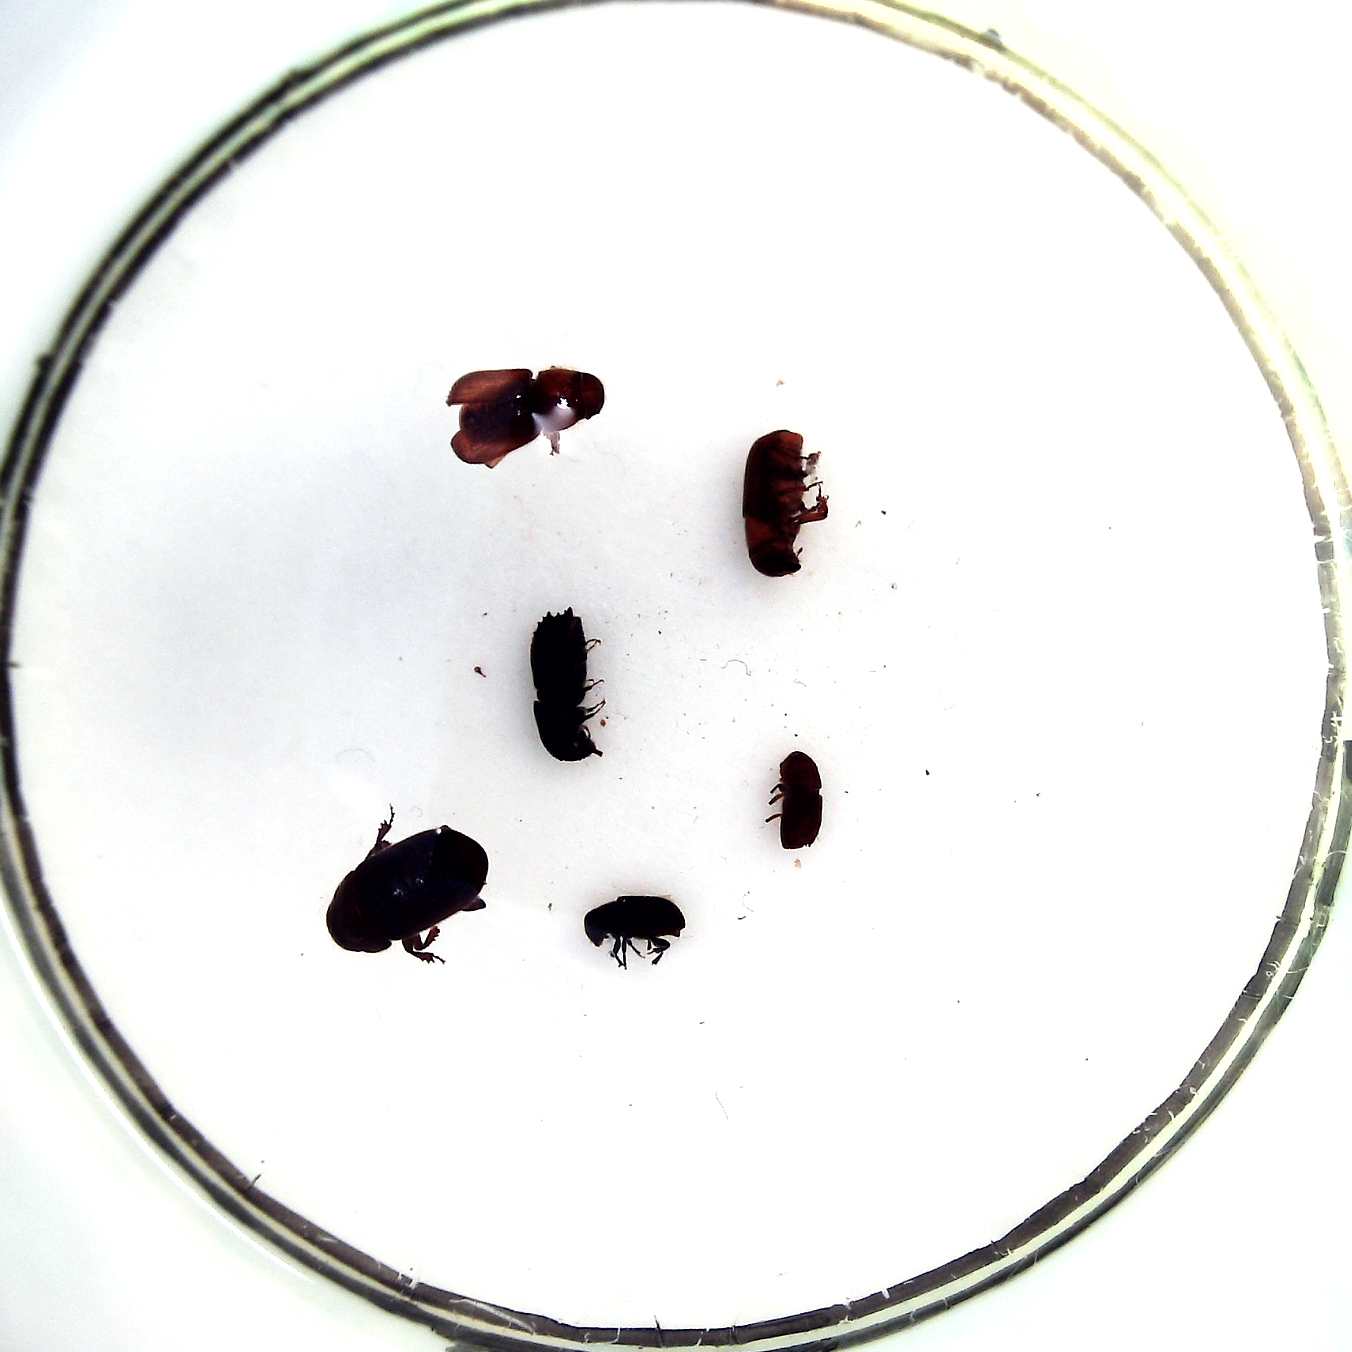Boerner: (529, 607, 603, 760)
Leconte: (326, 825, 489, 955), (449, 368, 604, 464), (742, 428, 805, 578)
armandi: (583, 896, 686, 945)
linnaeus: (779, 750, 823, 849)
